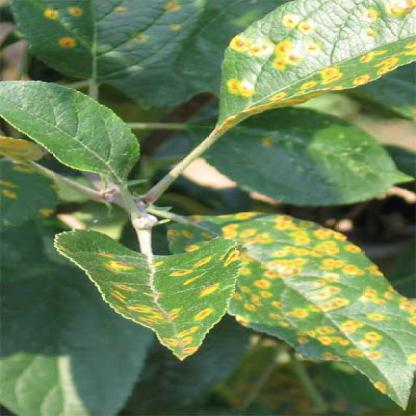apple rust leaf: (157, 194, 415, 411), (46, 218, 254, 365), (201, 1, 415, 128), (9, 1, 211, 102)
